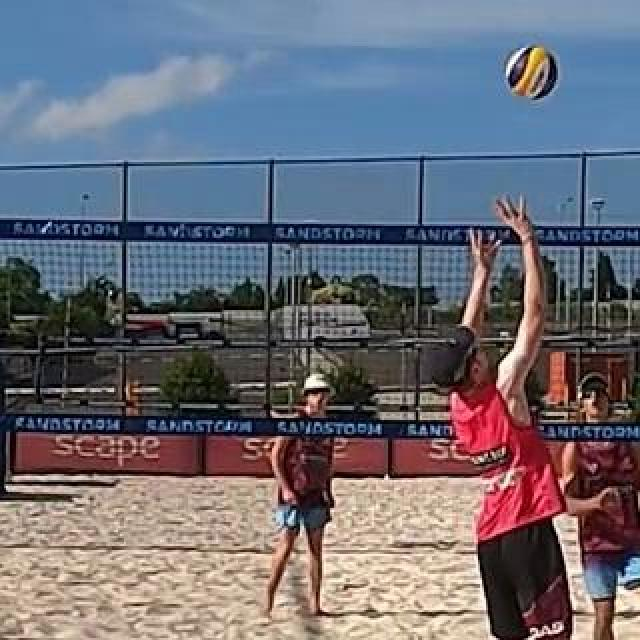volleyball: (506, 45, 560, 97)
